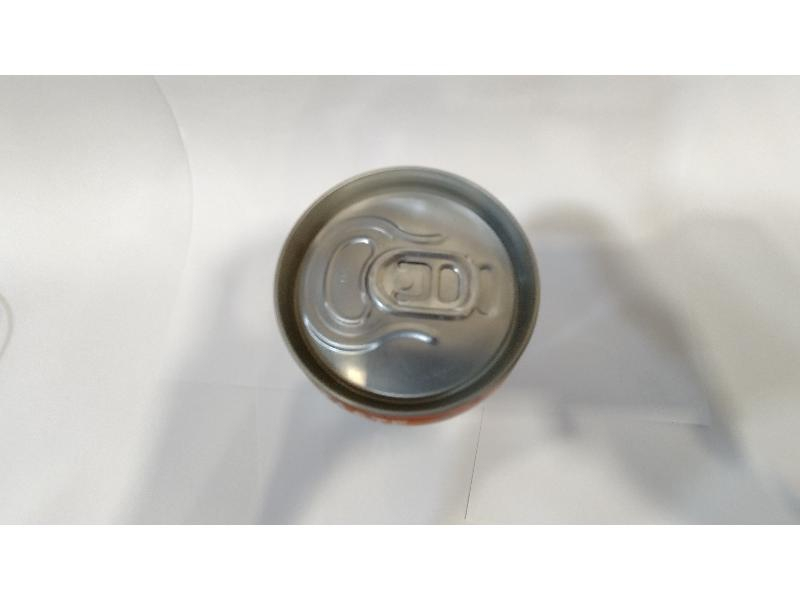can: (272, 166, 537, 425)
